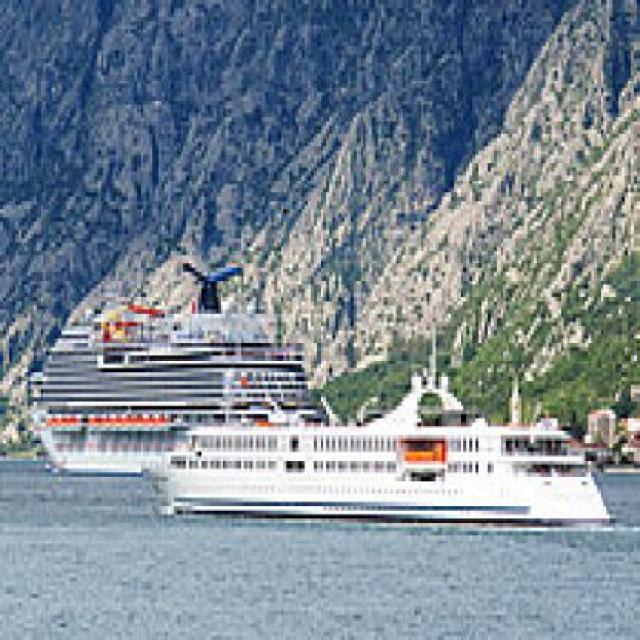cruise: (156, 381, 632, 541), (17, 248, 334, 486)
